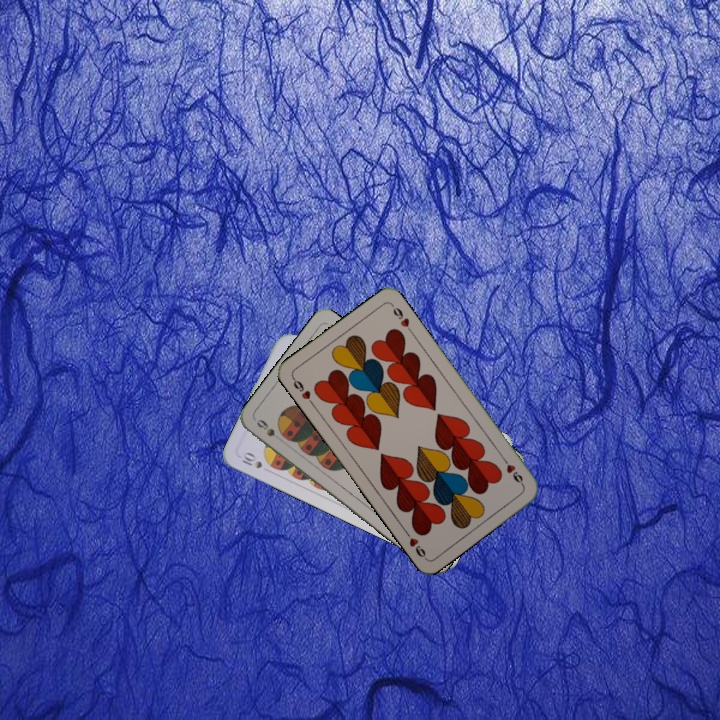H9: (288, 373, 317, 408), (498, 453, 526, 489)
S10: (236, 448, 265, 471)
S9: (252, 415, 287, 445)
